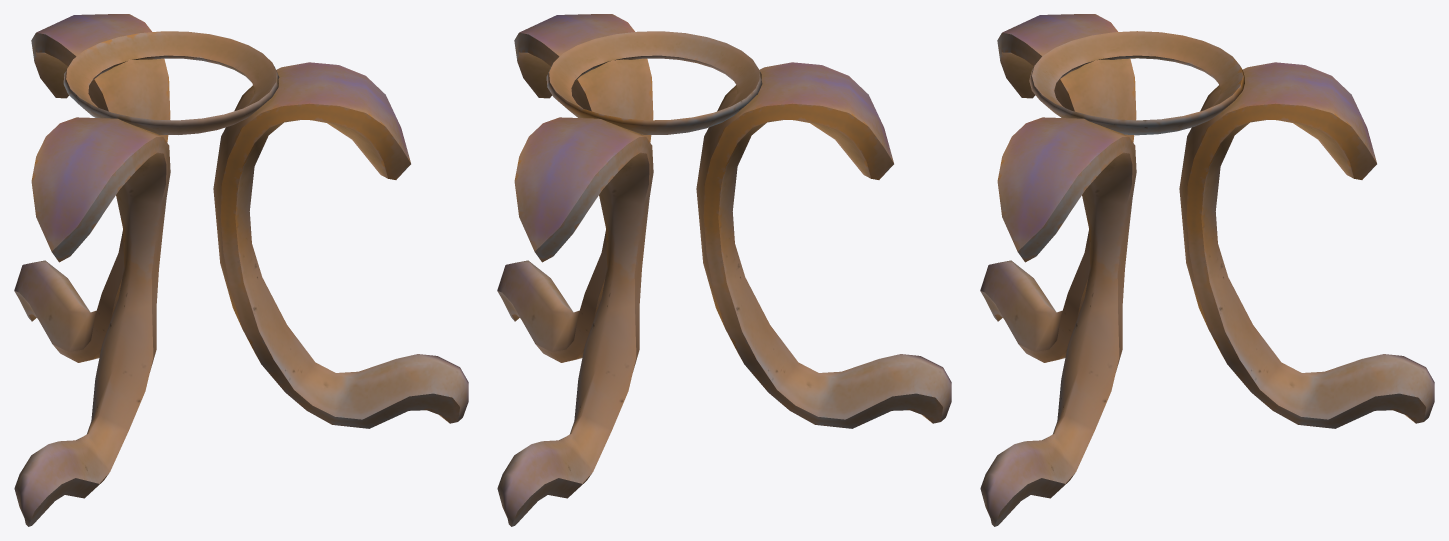
File: SM_Potion_Props_Stand_02.fbx
3 views of the same model, side by side, from view 1: azimuth 30°, elevation 25°; view 2: azimuth 150°, elevation 25°; view 3: azimuth 270°, elevation 25° (orthographic).
Parts seen in each view (by area): view 1: SM_Potion_Props_Stand_02_LOD0; view 2: SM_Potion_Props_Stand_02_LOD0; view 3: SM_Potion_Props_Stand_02_LOD0.
Part boxes in pixels (left/top/right/bottom): SM_Potion_Props_Stand_02_LOD0: left=14, top=14, right=468, bottom=526; SM_Potion_Props_Stand_02_LOD0: left=497, top=14, right=951, bottom=526; SM_Potion_Props_Stand_02_LOD0: left=980, top=14, right=1434, bottom=526.
Size of what is drawn, in the model's own units: 22.53 by 16.72 by 19.79.
